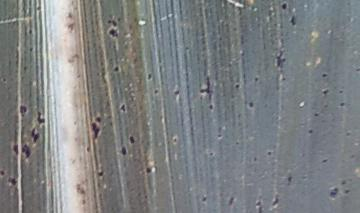tarspot: (274, 47, 288, 75), (86, 121, 103, 142), (200, 75, 214, 100), (27, 126, 43, 144), (268, 193, 284, 210), (21, 141, 33, 163), (326, 183, 341, 199), (15, 102, 30, 116), (10, 139, 21, 158), (34, 109, 46, 125), (225, 193, 237, 209), (289, 13, 299, 30), (149, 85, 163, 97), (107, 28, 121, 39), (105, 18, 121, 27), (93, 167, 106, 178), (243, 99, 257, 109), (7, 176, 19, 187), (118, 102, 129, 114), (143, 164, 155, 175), (284, 173, 295, 185), (127, 132, 137, 145), (145, 71, 155, 84), (250, 152, 260, 165), (278, 1, 289, 12), (232, 79, 242, 91), (206, 102, 216, 114), (304, 127, 316, 137), (320, 155, 330, 167), (251, 73, 261, 85), (33, 2, 43, 13), (112, 62, 122, 73), (264, 149, 275, 159), (320, 87, 331, 97), (336, 85, 346, 96), (215, 132, 226, 142), (311, 110, 322, 120), (337, 178, 348, 188), (338, 100, 347, 112), (18, 64, 31, 72), (118, 145, 128, 155), (171, 87, 181, 97), (343, 129, 353, 139), (26, 26, 35, 37), (26, 45, 37, 54), (320, 70, 329, 81), (171, 134, 179, 146), (1, 73, 9, 85), (199, 195, 209, 204), (94, 113, 104, 122), (256, 206, 268, 213), (84, 146, 93, 155), (280, 75, 288, 85), (234, 138, 242, 148), (208, 149, 216, 158), (254, 197, 263, 205), (344, 186, 351, 196), (354, 64, 360, 75), (1, 168, 8, 176)
